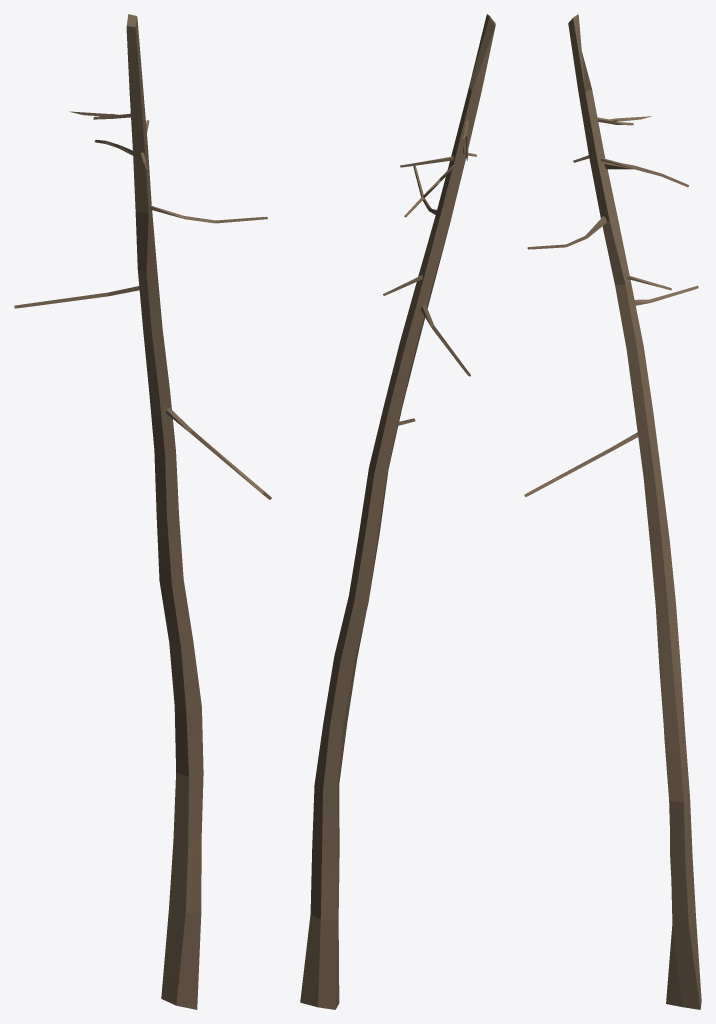
File: pine_bare_10.FBX
The picture shows the model from 3 angles, left to right: view 1: azimuth 30°, elevation 25°; view 2: azimuth 150°, elevation 25°; view 3: azimuth 270°, elevation 25°; orthographic projection. The views are drawn at different scales.
Visible parts, largest first — view 1: pine_bare_10; view 2: pine_bare_10; view 3: pine_bare_10.
Boxes of the visible parts, box(x1,y1,x2,y2) form: pine_bare_10: box(14, 14, 271, 1009); pine_bare_10: box(300, 14, 495, 1009); pine_bare_10: box(524, 14, 701, 1009).
Bounding box in the file's own units: 1.42 × 7.8 × 1.34.
